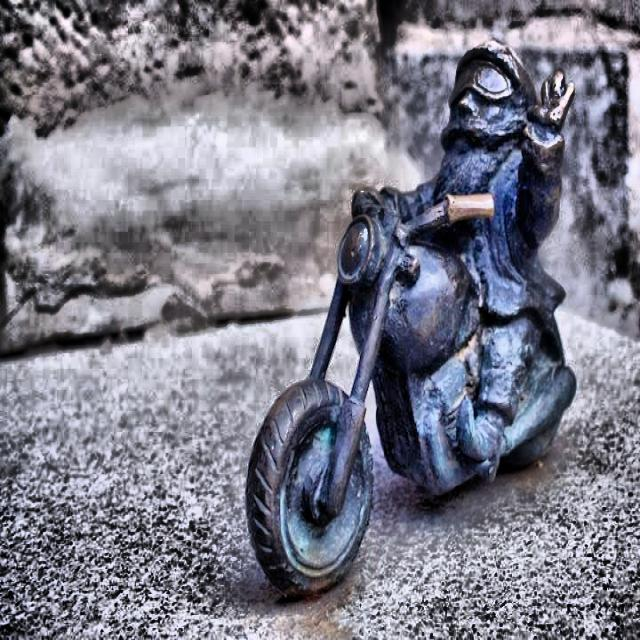Wentyl: (248, 41, 575, 596)
